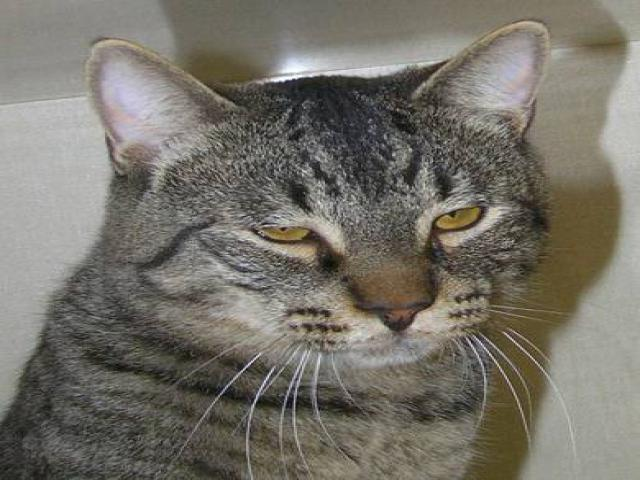cat: (4, 20, 573, 477)
